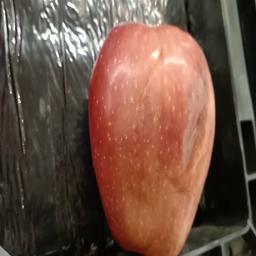Apple Fresh: (87, 20, 227, 256)
